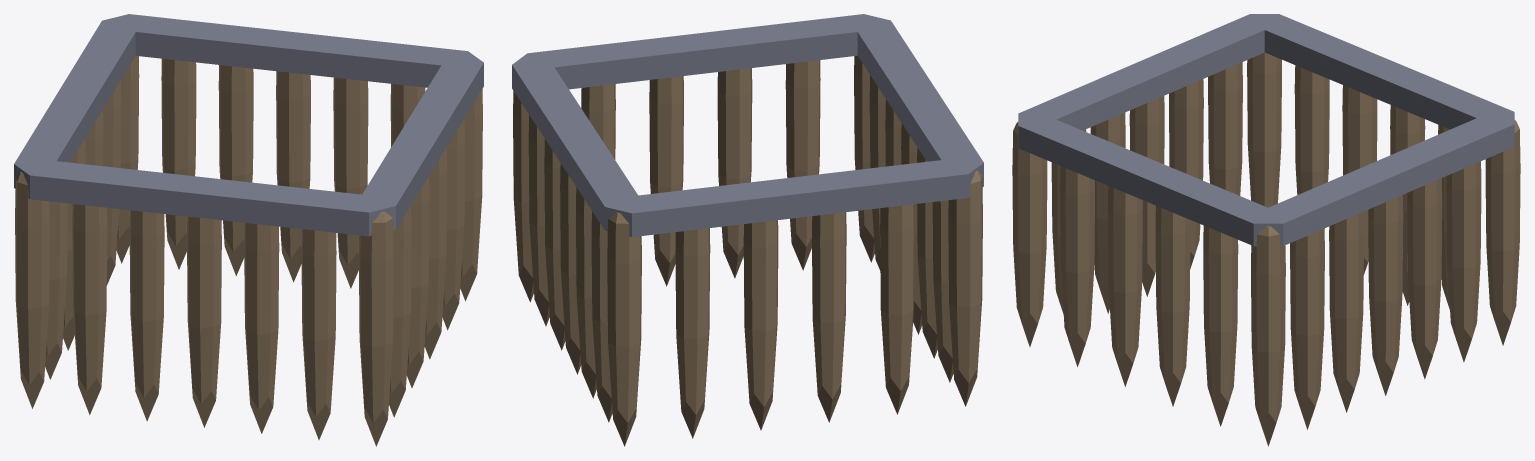
File: nivel2 trampa.fbx
3 views of the same model, side by side, from view 1: azimuth 30°, elevation 25°; view 2: azimuth 150°, elevation 25°; view 3: azimuth 270°, elevation 25° (orthographic). The views are drawn at different scales.
Parts seen in each view (by area): view 1: trampa; view 2: trampa; view 3: trampa.
Boxes of the visible parts, x1,y1,x2,y2 form: trampa: (14,14,483,446); trampa: (512,14,983,446); trampa: (1012,14,1520,446).
Size of the model in its own units: 410 by 203 by 410.
